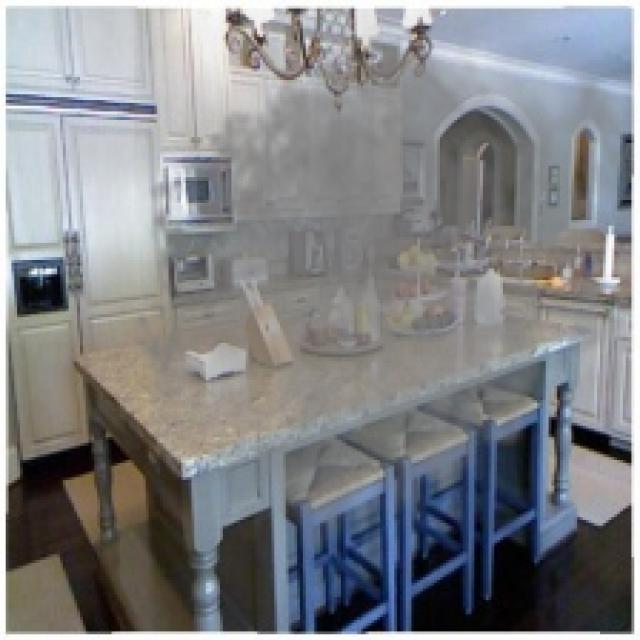Smoke: (122, 8, 638, 574)
